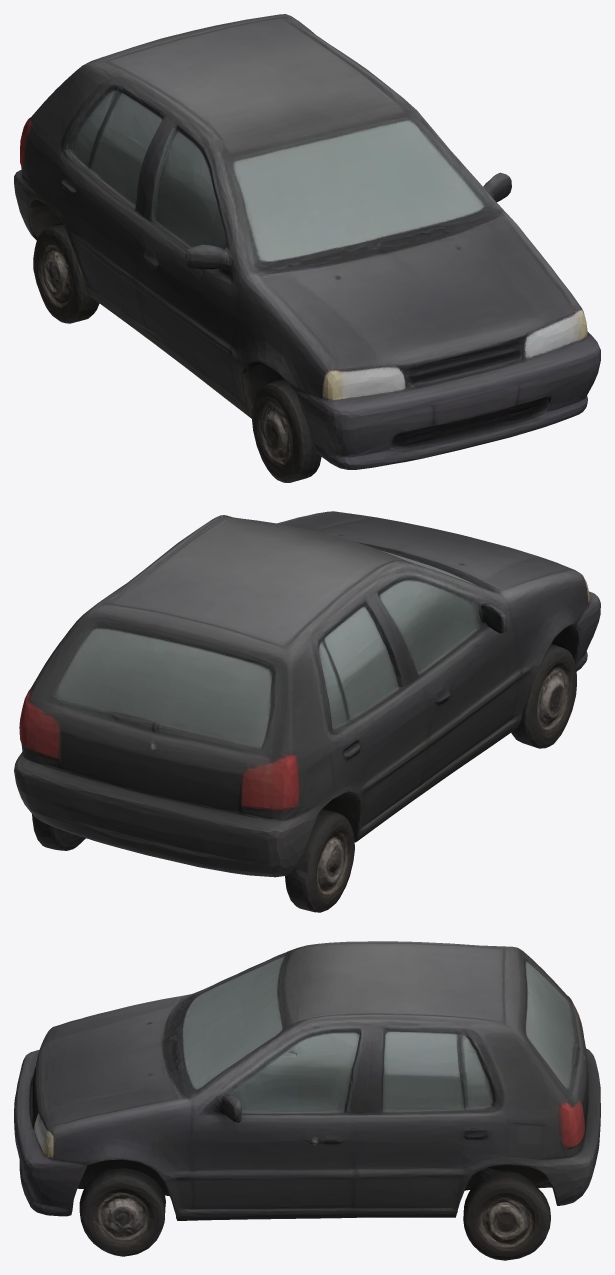
Rendered from car.glb.
3 views of the same model, one above another, from view 1: azimuth 30°, elevation 25°; view 2: azimuth 150°, elevation 25°; view 3: azimuth 270°, elevation 25° (orthographic). The views are drawn at different scales.
Visible parts, largest first — view 1: geometry_0; view 2: geometry_0; view 3: geometry_0.
Part boxes in pixels (x1,y1,x2,y2): geometry_0: [14, 14, 600, 482]; geometry_0: [14, 511, 600, 912]; geometry_0: [14, 941, 600, 1260].
Size of the model in its own units: 0.5478 by 0.4274 by 0.9991.
Materials: 1 (1 with a texture image).
